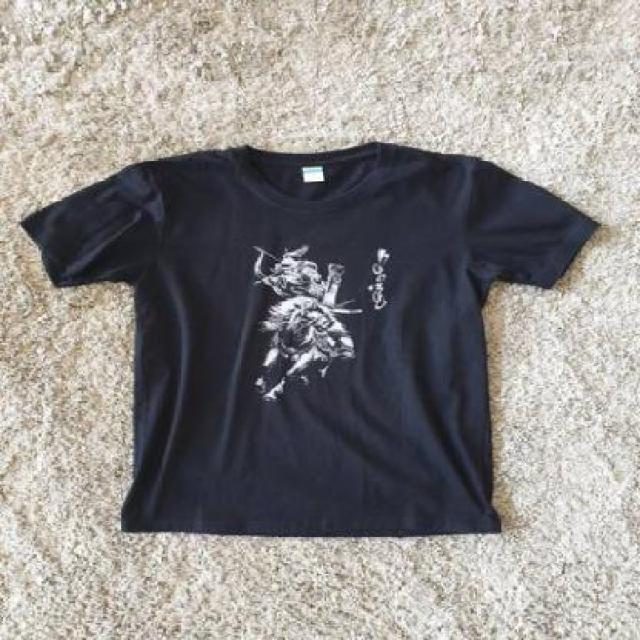shirt: (18, 134, 611, 546)
